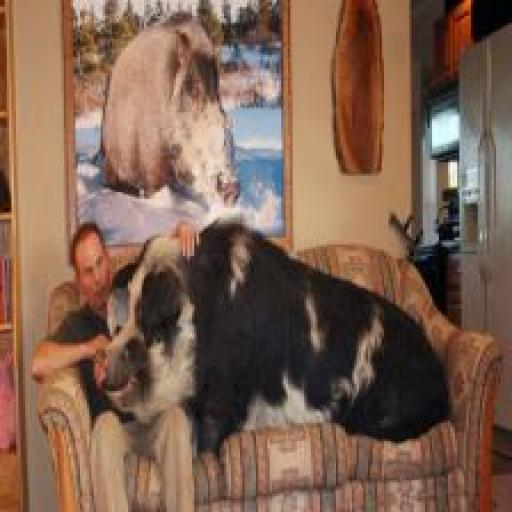Pig: (103, 217, 450, 453)
